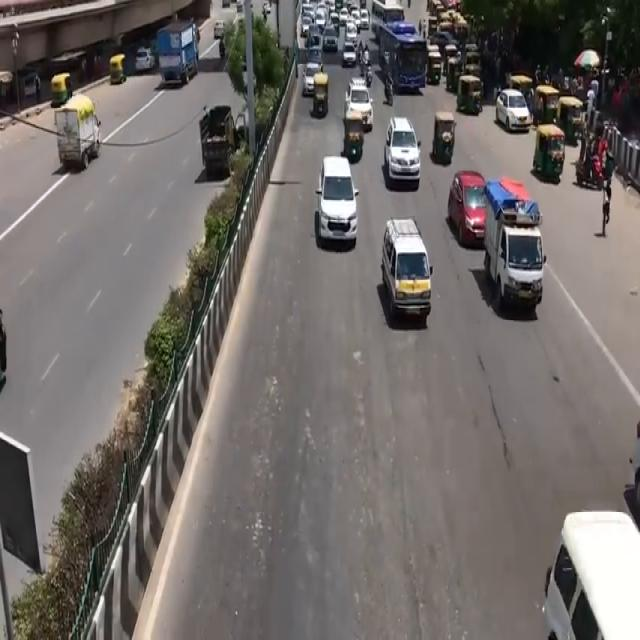BUS: (376, 26, 426, 98)
TRUCK: (486, 205, 544, 314)
